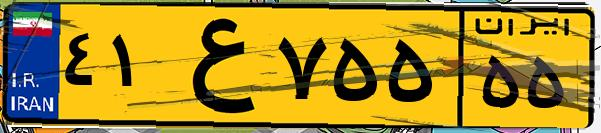1: (110, 28, 158, 98)
4: (57, 26, 110, 100)
5: (385, 28, 445, 110), (330, 28, 385, 110), (475, 38, 525, 113), (525, 38, 570, 115)
7: (270, 28, 330, 110)
ع: (158, 12, 270, 120)
